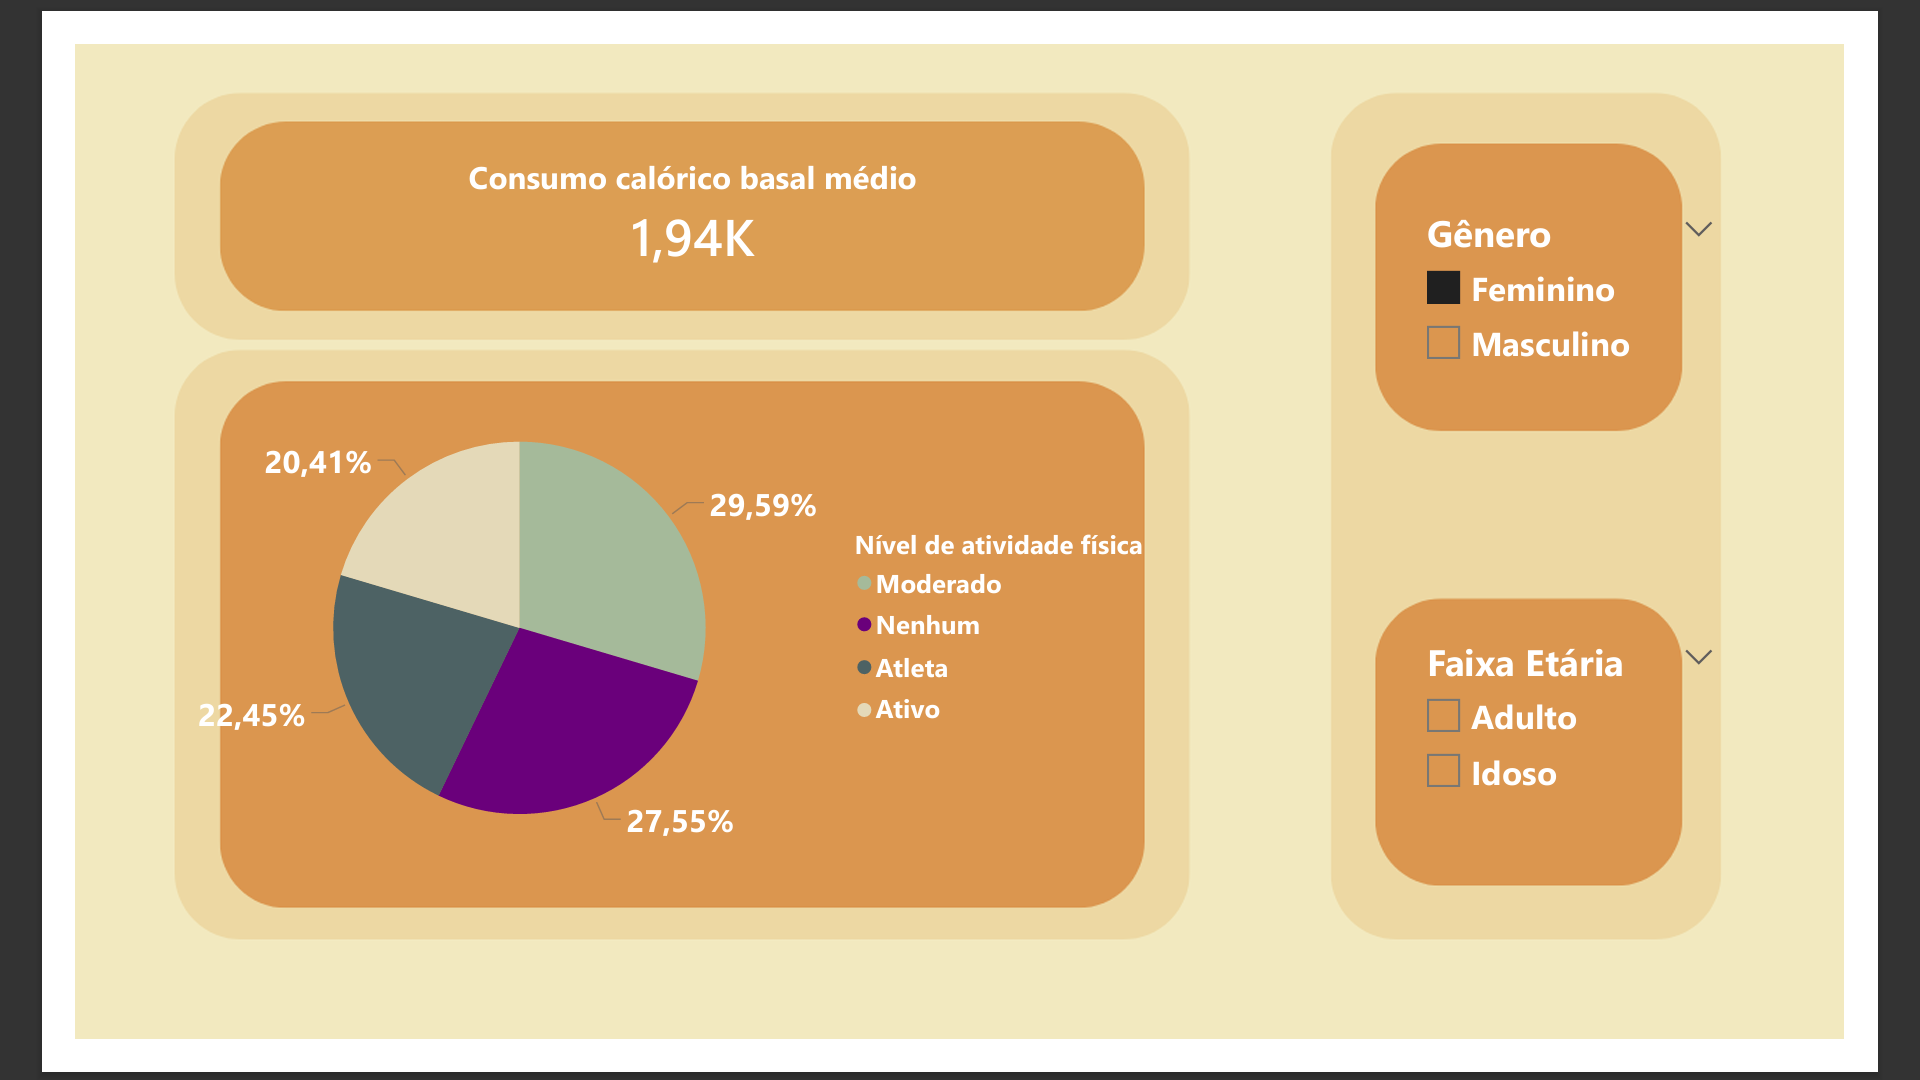

The page's visual inventory and layout, read from the dashboard file:
{"tool":"powerbi","page":{"name":"Feminino","canvas":[1280,720],"ordinal":1},"visuals":[{"type":"pieChart","fields":{"Category":["Personal_DATA.Nível de atividade física"],"Y":["CountNonNull(Personal_DATA.ID_Entrevistado)"]},"box":[74.1,227.8,720.4,389.7],"z":0},{"type":"cardVisual","fields":{"Data":["Avg(Formula_DATA.C. C. D. Basal)"]},"box":[138.6,43.9,616.1,153.7],"z":1000},{"type":"slicer","fields":{"Values":["Personal_DATA.Gênero"]},"box":[964.7,112.5,233.3,229.2],"z":2000},{"type":"slicer","fields":{"Values":["Personal_DATA.Faixa Etária"]},"box":[964.7,422.6,233.3,229.2],"z":3000}]}

Visuals, with their boxes in screenshot pixels (x1, y1, x2, y2), scaled from the page's 1280x720 canvas onto the 1920x1080 screenshot:
pieChart - Personal_DATA.Nível de atividade física x CountNonNull(Personal_DATA.ID_Entrevistado): [x1=111, y1=342, x2=1192, y2=926]
cardVisual - Avg(Formula_DATA.C. C. D. Basal): [x1=208, y1=66, x2=1132, y2=296]
slicer - Personal_DATA.Gênero: [x1=1447, y1=169, x2=1797, y2=513]
slicer - Personal_DATA.Faixa Etária: [x1=1447, y1=634, x2=1797, y2=978]
